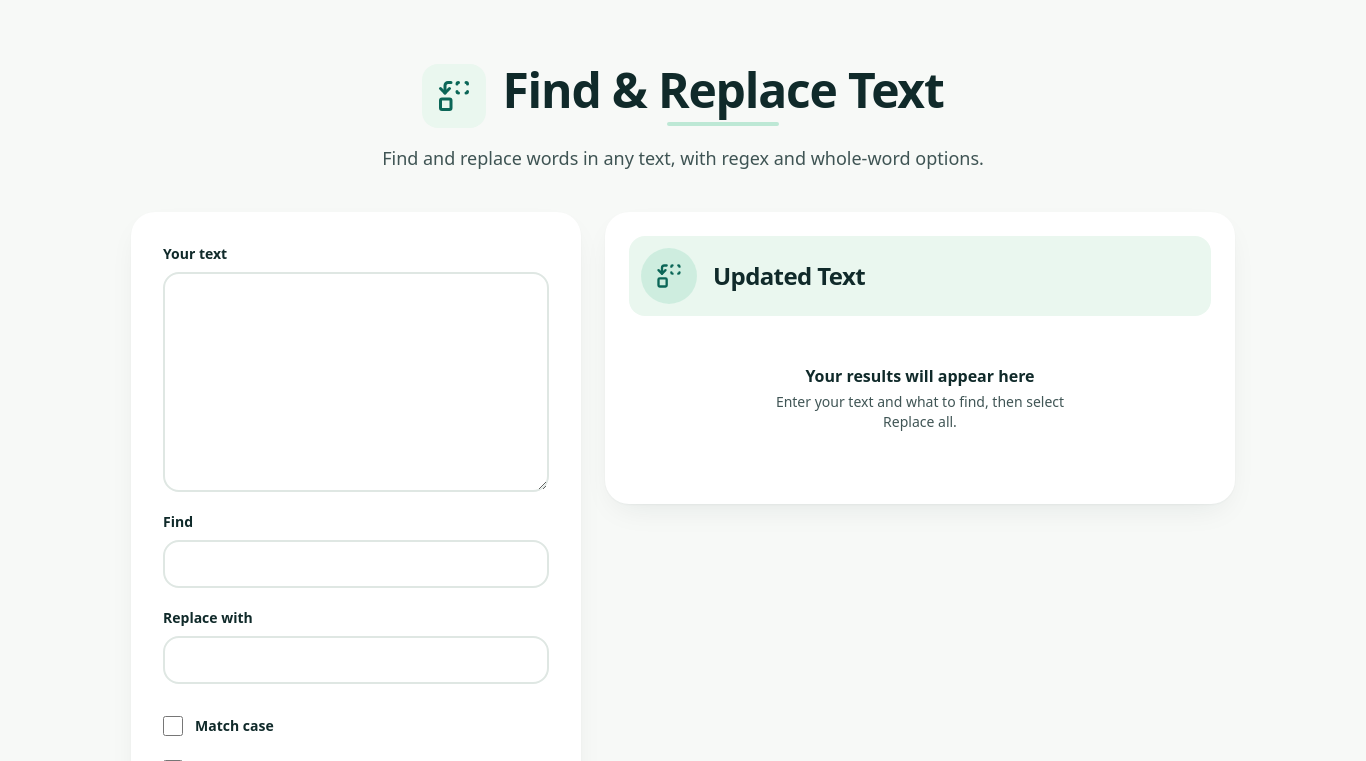
Test case: Find and Replace page › replaces plain text
The width and height of the screenshot is (1366, 761).
Type "one two one" into the text box labelled "Your text" at (356, 382), box 163,272 -> 549,492
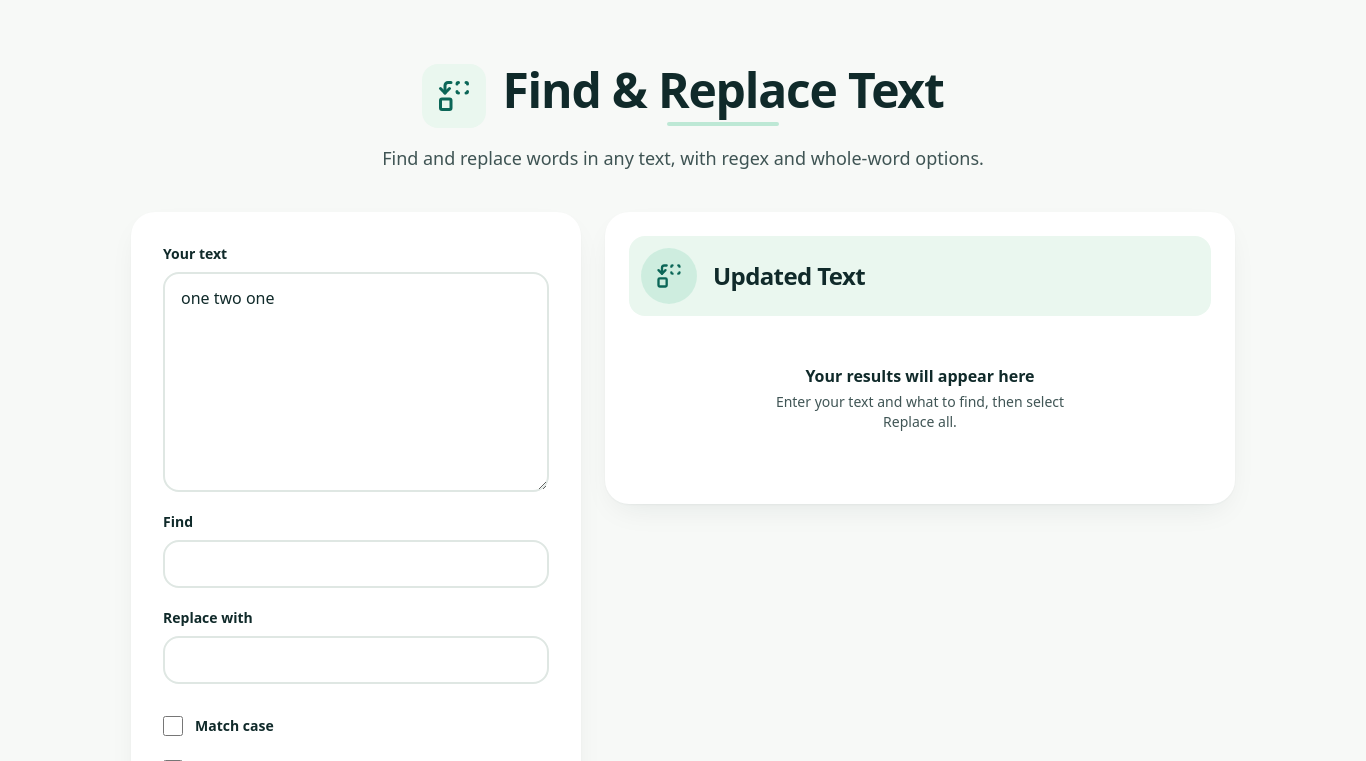
Type "one" into the field labelled "Find" at (356, 564), box 163,540 -> 549,588
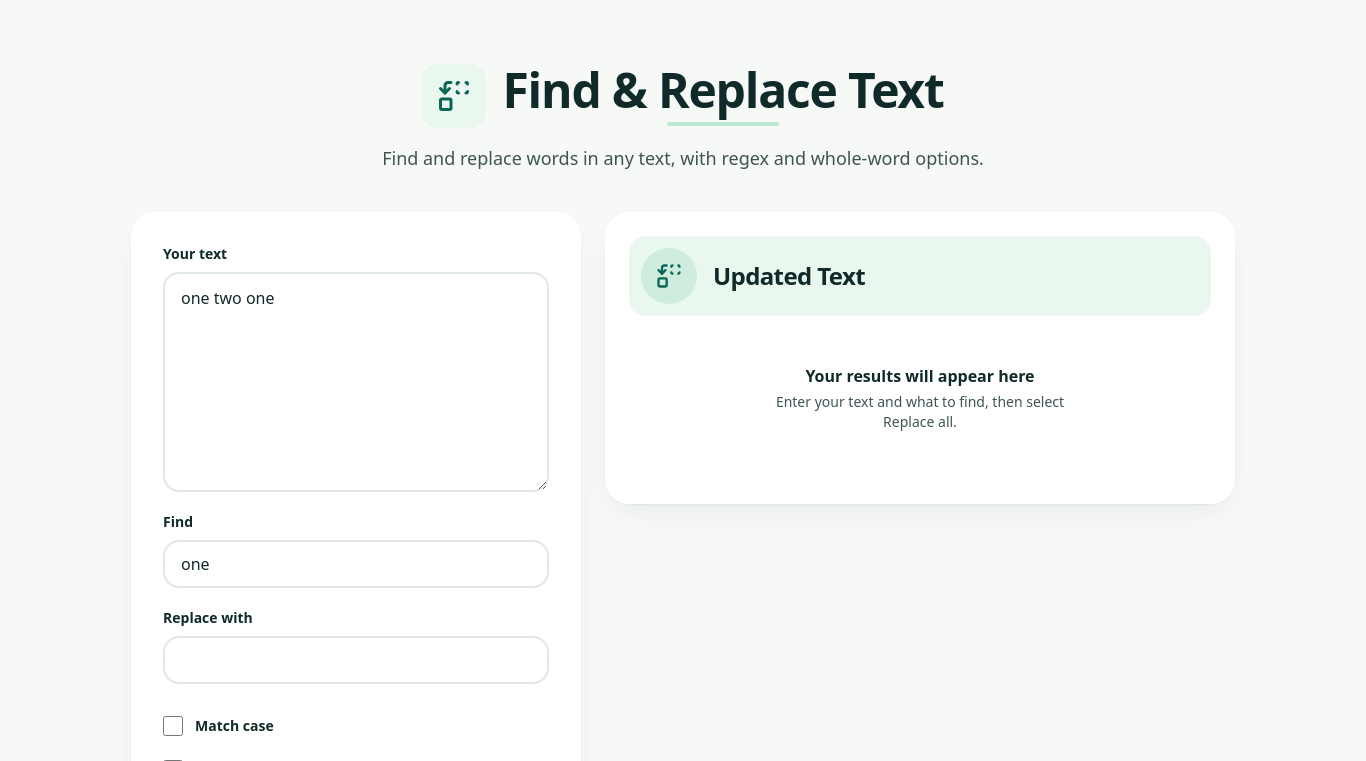
Type "x" into the field labelled "Replace with" at (356, 660), box 163,636 -> 549,684
(page scrolled)
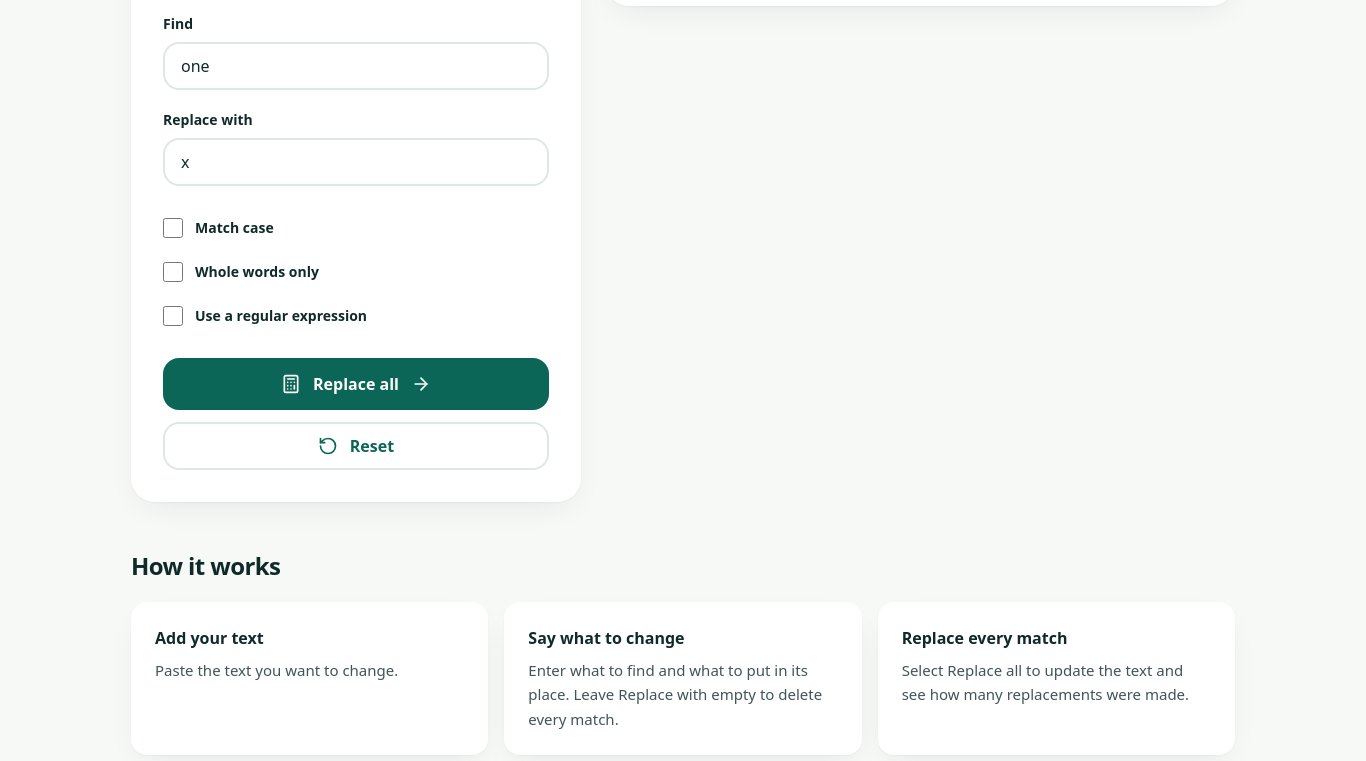
Click the button "Replace all" at (356, 384), box 163,358 -> 549,410
(page scrolled)
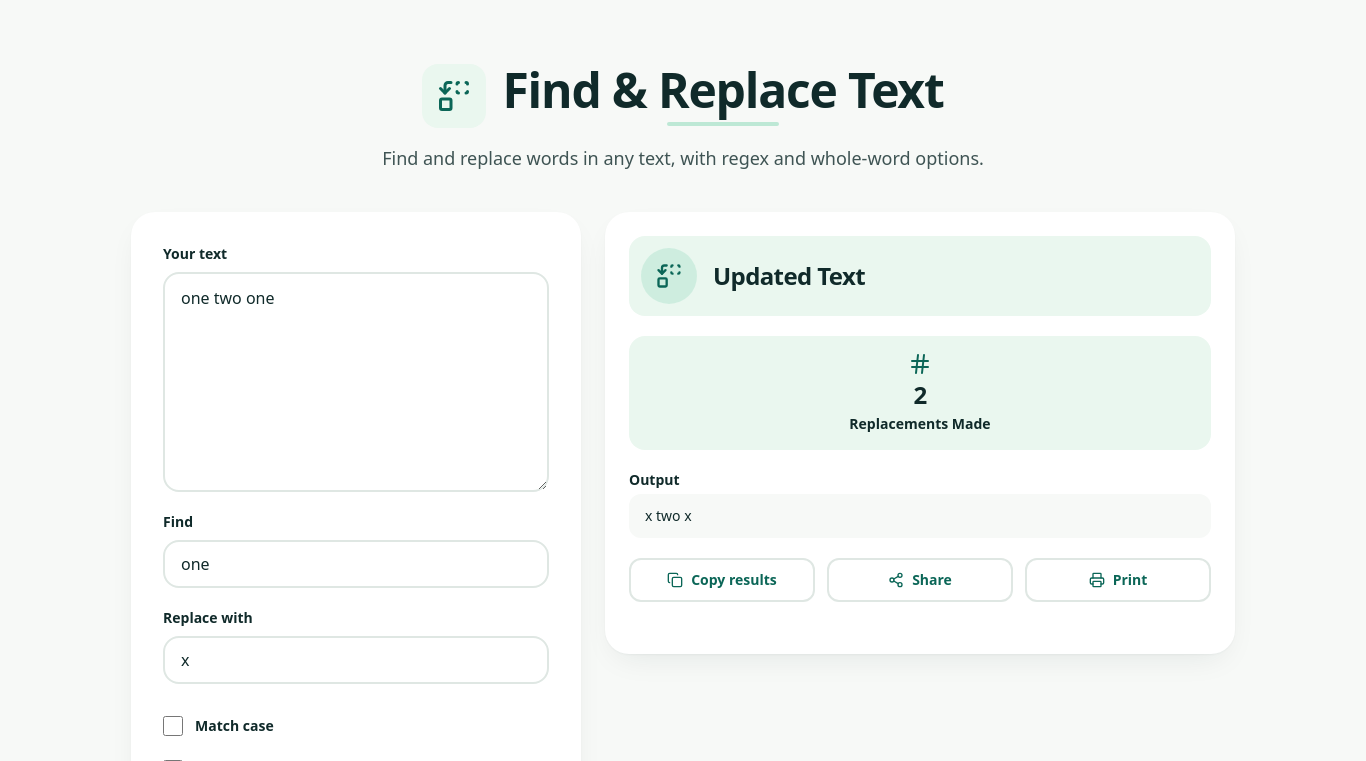
Result: the text named "Output" reads "x two x" at 645,506 -> 692,525
